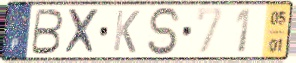1: (233, 6, 252, 56)
7: (194, 6, 227, 57)
B: (28, 7, 66, 56)
K: (111, 8, 142, 55)
S: (146, 6, 184, 58)
X: (62, 8, 101, 56)
